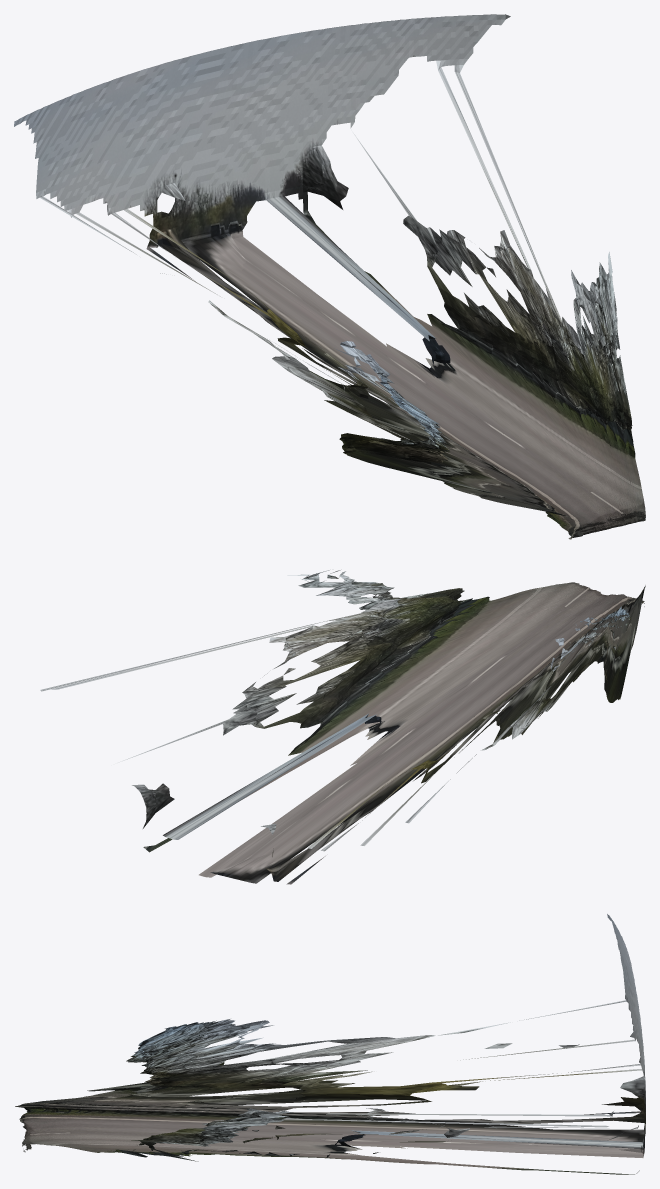
The picture shows the model from 3 angles, top to bottom: view 1: azimuth 30°, elevation 25°; view 2: azimuth 150°, elevation 25°; view 3: azimuth 270°, elevation 25°; orthographic projection. The views are drawn at different scales.
Visible parts, largest first — view 1: defaultobject; view 2: defaultobject; view 3: defaultobject.
Boxes of the visible parts, x1=… form: defaultobject: x1=14, y1=14, x2=645, y2=539; defaultobject: x1=40, y1=570, x2=645, y2=884; defaultobject: x1=15, y1=914, x2=645, y2=1174.
Size of the model in its own units: 30.68 by 12.09 by 44.84.
Materials: 1 (1 with a texture image).
